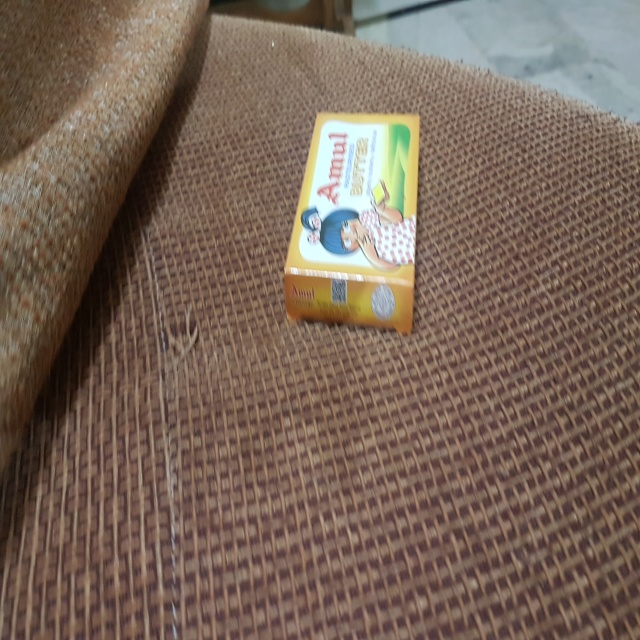butter: (283, 111, 424, 329)
